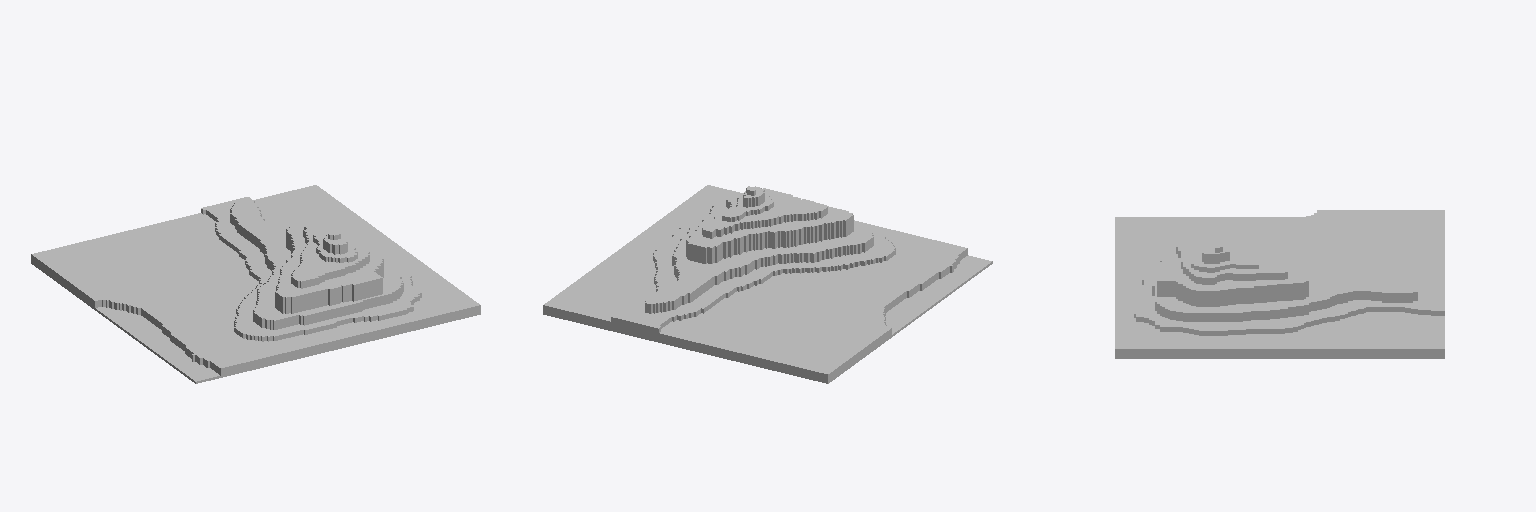
Rendered from Main Island 11.obj.
3 views of the same model, side by side, from view 1: azimuth 30°, elevation 25°; view 2: azimuth 150°, elevation 25°; view 3: azimuth 270°, elevation 25° (orthographic).
Parts seen in each view (by area): view 1: Light House-12; view 2: Light House-12; view 3: Light House-12.
Part boxes in pixels (bbox=[...]): Light House-12: bbox=[31, 185, 480, 383]; Light House-12: bbox=[543, 185, 992, 383]; Light House-12: bbox=[1115, 210, 1444, 358].
Bounding box in the file's own units: 126 × 28 × 126.